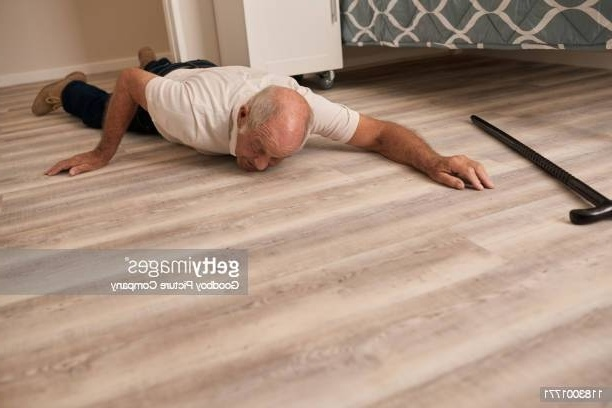fall: (25, 41, 502, 194)
